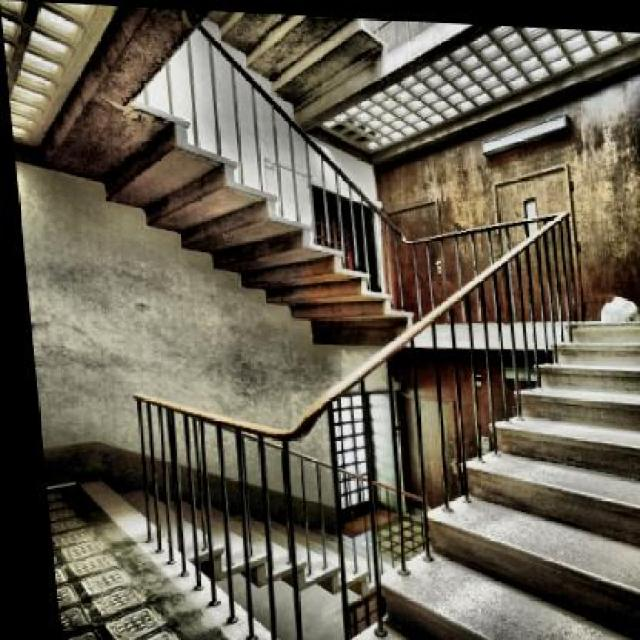stair: (297, 214, 638, 638)
